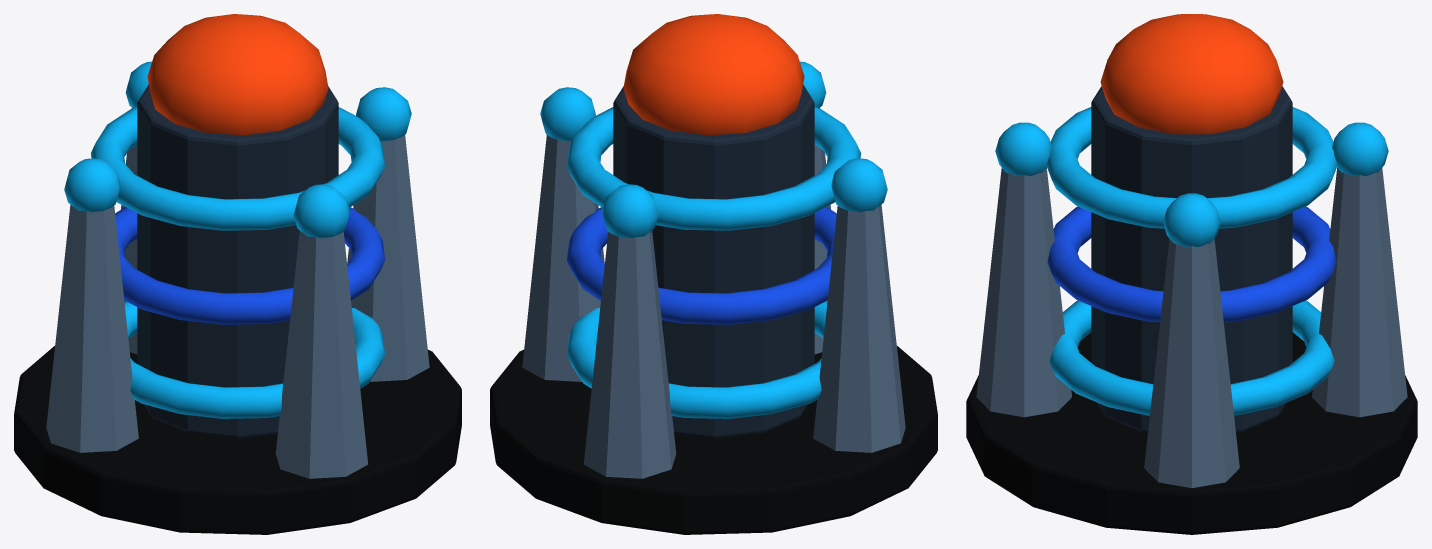
The model's file is power_generator_array.obj.
The picture shows the model from 3 angles, left to right: view 1: azimuth 30°, elevation 25°; view 2: azimuth 150°, elevation 25°; view 3: azimuth 270°, elevation 25°; orthographic projection.
Parts seen in each view (by area): view 1: rts_generator_base_M_black, rts_generator_core_M_gunmetal, rts_generator_cap_M_orange, rts_generator_pylon_1_M_steel, rts_generator_pylon_0_M_steel, rts_generator_coil_2_M_cyan, rts_generator_pylon_2_M_steel, rts_generator_coil_1_M_azure, rts_generator_coil_0_M_cyan, rts_generator_node_1_M_cyan, rts_generator_node_0_M_cyan, rts_generator_node_2_M_cyan (+2 smaller); view 2: rts_generator_base_M_black, rts_generator_core_M_gunmetal, rts_generator_cap_M_orange, rts_generator_pylon_3_M_steel, rts_generator_pylon_0_M_steel, rts_generator_coil_2_M_cyan, rts_generator_pylon_2_M_steel, rts_generator_coil_1_M_azure, rts_generator_coil_0_M_cyan, rts_generator_node_3_M_cyan, rts_generator_node_0_M_cyan, rts_generator_node_2_M_cyan (+2 smaller); view 3: rts_generator_base_M_black, rts_generator_core_M_gunmetal, rts_generator_cap_M_orange, rts_generator_pylon_2_M_steel, rts_generator_pylon_1_M_steel, rts_generator_pylon_3_M_steel, rts_generator_coil_2_M_cyan, rts_generator_coil_1_M_azure, rts_generator_coil_0_M_cyan, rts_generator_node_2_M_cyan, rts_generator_node_1_M_cyan, rts_generator_node_3_M_cyan.
Part boxes in pixels (x1,y1,x2,y2): rts_generator_base_M_black: (14,345,461,534); rts_generator_core_M_gunmetal: (137,84,338,438); rts_generator_cap_M_orange: (147,14,328,135); rts_generator_pylon_1_M_steel: (275,230,368,478); rts_generator_pylon_0_M_steel: (46,204,138,452); rts_generator_coil_2_M_cyan: (90,107,385,230); rts_generator_pylon_2_M_steel: (347,135,429,381); rts_generator_coil_1_M_azure: (115,207,385,324); rts_generator_coil_0_M_cyan: (124,301,385,418); rts_generator_node_1_M_cyan: (293,184,350,238); rts_generator_node_0_M_cyan: (64,158,120,212); rts_generator_node_2_M_cyan: (356,87,411,141); rts_generator_base_M_black: (490,345,937,534); rts_generator_core_M_gunmetal: (613,84,814,438); rts_generator_cap_M_orange: (623,14,804,135); rts_generator_pylon_3_M_steel: (583,230,676,478); rts_generator_pylon_0_M_steel: (813,204,905,452); rts_generator_coil_2_M_cyan: (566,107,861,230); rts_generator_pylon_2_M_steel: (522,135,604,381); rts_generator_coil_1_M_azure: (566,207,836,324); rts_generator_coil_0_M_cyan: (566,301,827,418); rts_generator_node_3_M_cyan: (601,184,658,238); rts_generator_node_0_M_cyan: (831,158,887,212); rts_generator_node_2_M_cyan: (540,87,595,141); rts_generator_base_M_black: (966,332,1417,534); rts_generator_core_M_gunmetal: (1091,86,1292,432); rts_generator_cap_M_orange: (1100,14,1283,134); rts_generator_pylon_2_M_steel: (1144,239,1239,488); rts_generator_pylon_1_M_steel: (976,168,1071,417); rts_generator_pylon_3_M_steel: (1312,168,1407,417); rts_generator_coil_2_M_cyan: (1046,107,1337,228); rts_generator_coil_1_M_azure: (1047,206,1336,322); rts_generator_coil_0_M_cyan: (1049,300,1334,415); rts_generator_node_2_M_cyan: (1163,193,1220,247); rts_generator_node_1_M_cyan: (995,122,1051,176); rts_generator_node_3_M_cyan: (1332,122,1388,176).
Size of the model in its own units: 1.48 by 1.51 by 1.48.
